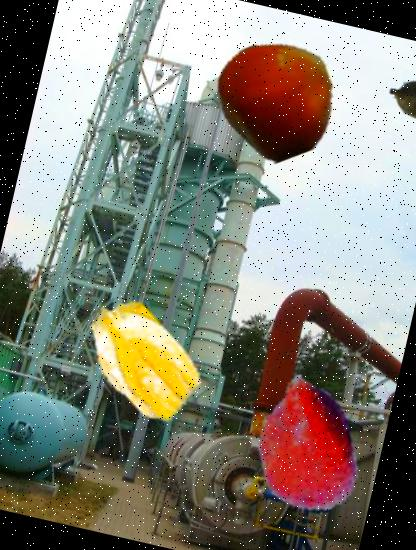Beetroot: (382, 65, 416, 129)
Nut: (206, 27, 350, 170)
Physalis: (61, 278, 222, 440)
Salak: (222, 361, 388, 527)
